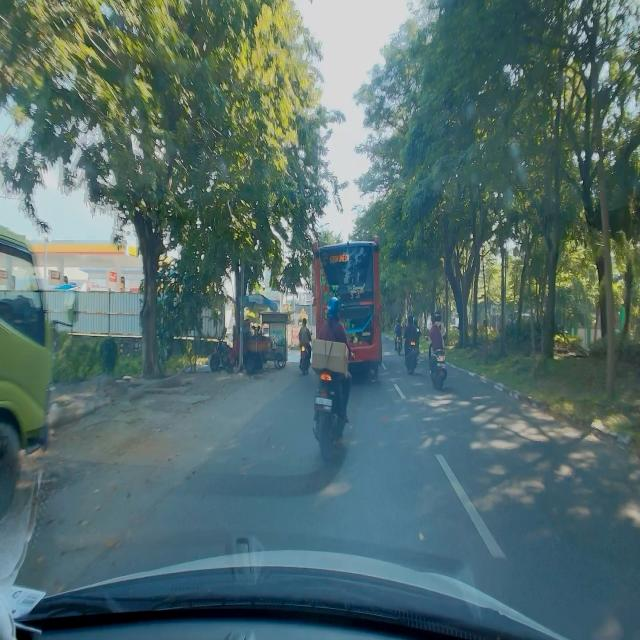bus: (313, 235, 383, 380)
